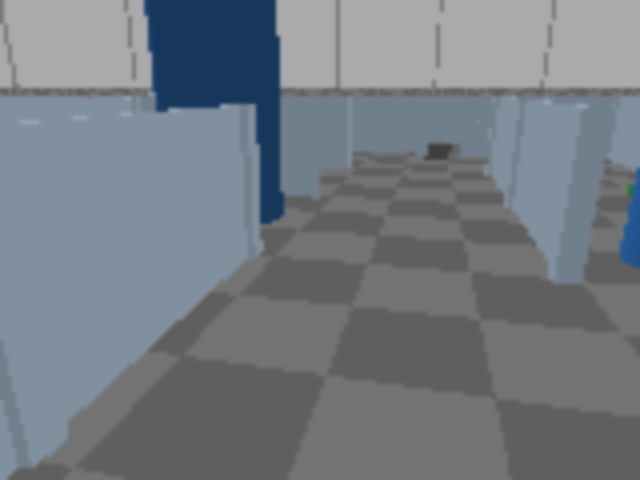obstacle: (426, 141, 459, 162)
person: (624, 0, 638, 301)
